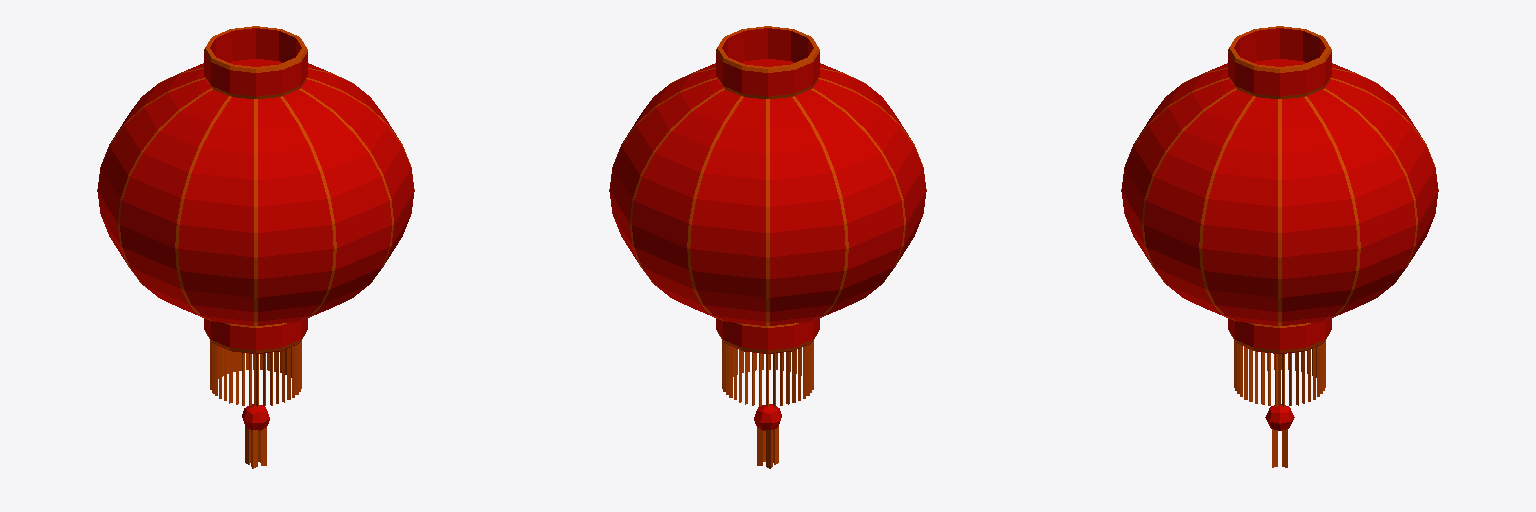
The model's file is lantern_chinese.sgm.obj.
3 renders of one model, left to right at view 1: azimuth 30°, elevation 25°; view 2: azimuth 150°, elevation 25°; view 3: azimuth 270°, elevation 25°, orthographic.
Visible parts, largest first — view 1: 1, 0; view 2: 1, 0; view 3: 1, 0.
Part boxes in pixels (x1,y1,x2,y2): 1: (97, 28, 414, 430); 0: (97, 26, 414, 468); 1: (609, 28, 926, 430); 0: (609, 26, 926, 468); 1: (1121, 28, 1438, 430); 0: (1121, 26, 1438, 467).
Bounding box in the file's own units: 0.5501 × 0.7979 × 0.5501.